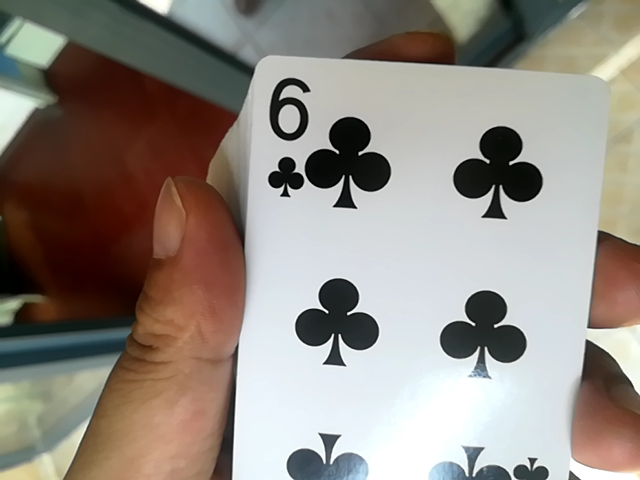mh 6: (221, 52, 625, 480)
